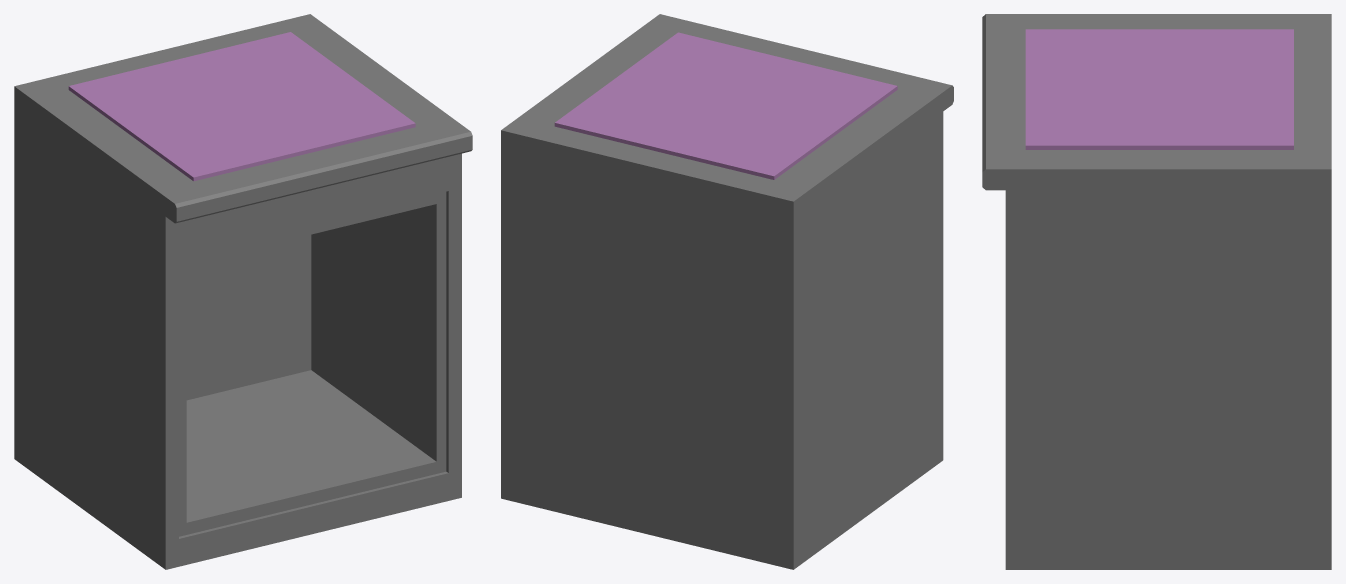
The model's file is MeubleFourCuisine.fbx.
3 views of the same model, side by side, from view 1: azimuth 30°, elevation 25°; view 2: azimuth 150°, elevation 25°; view 3: azimuth 270°, elevation 25° (orthographic). The views are drawn at different scales.
Visible parts, largest first — view 1: MeubleFourCuisine; view 2: MeubleFourCuisine; view 3: MeubleFourCuisine.
Boxes of the visible parts, left/top/right/bottom form: MeubleFourCuisine: left=14, top=14, right=472, bottom=569; MeubleFourCuisine: left=501, top=14, right=953, bottom=569; MeubleFourCuisine: left=982, top=14, right=1331, bottom=569.
Bounding box in the file's own units: 78.97 × 95.99 × 75.
